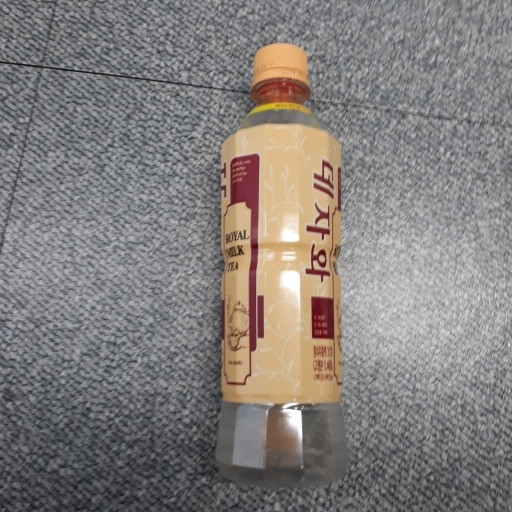Plastic_0: (213, 41, 350, 490)
